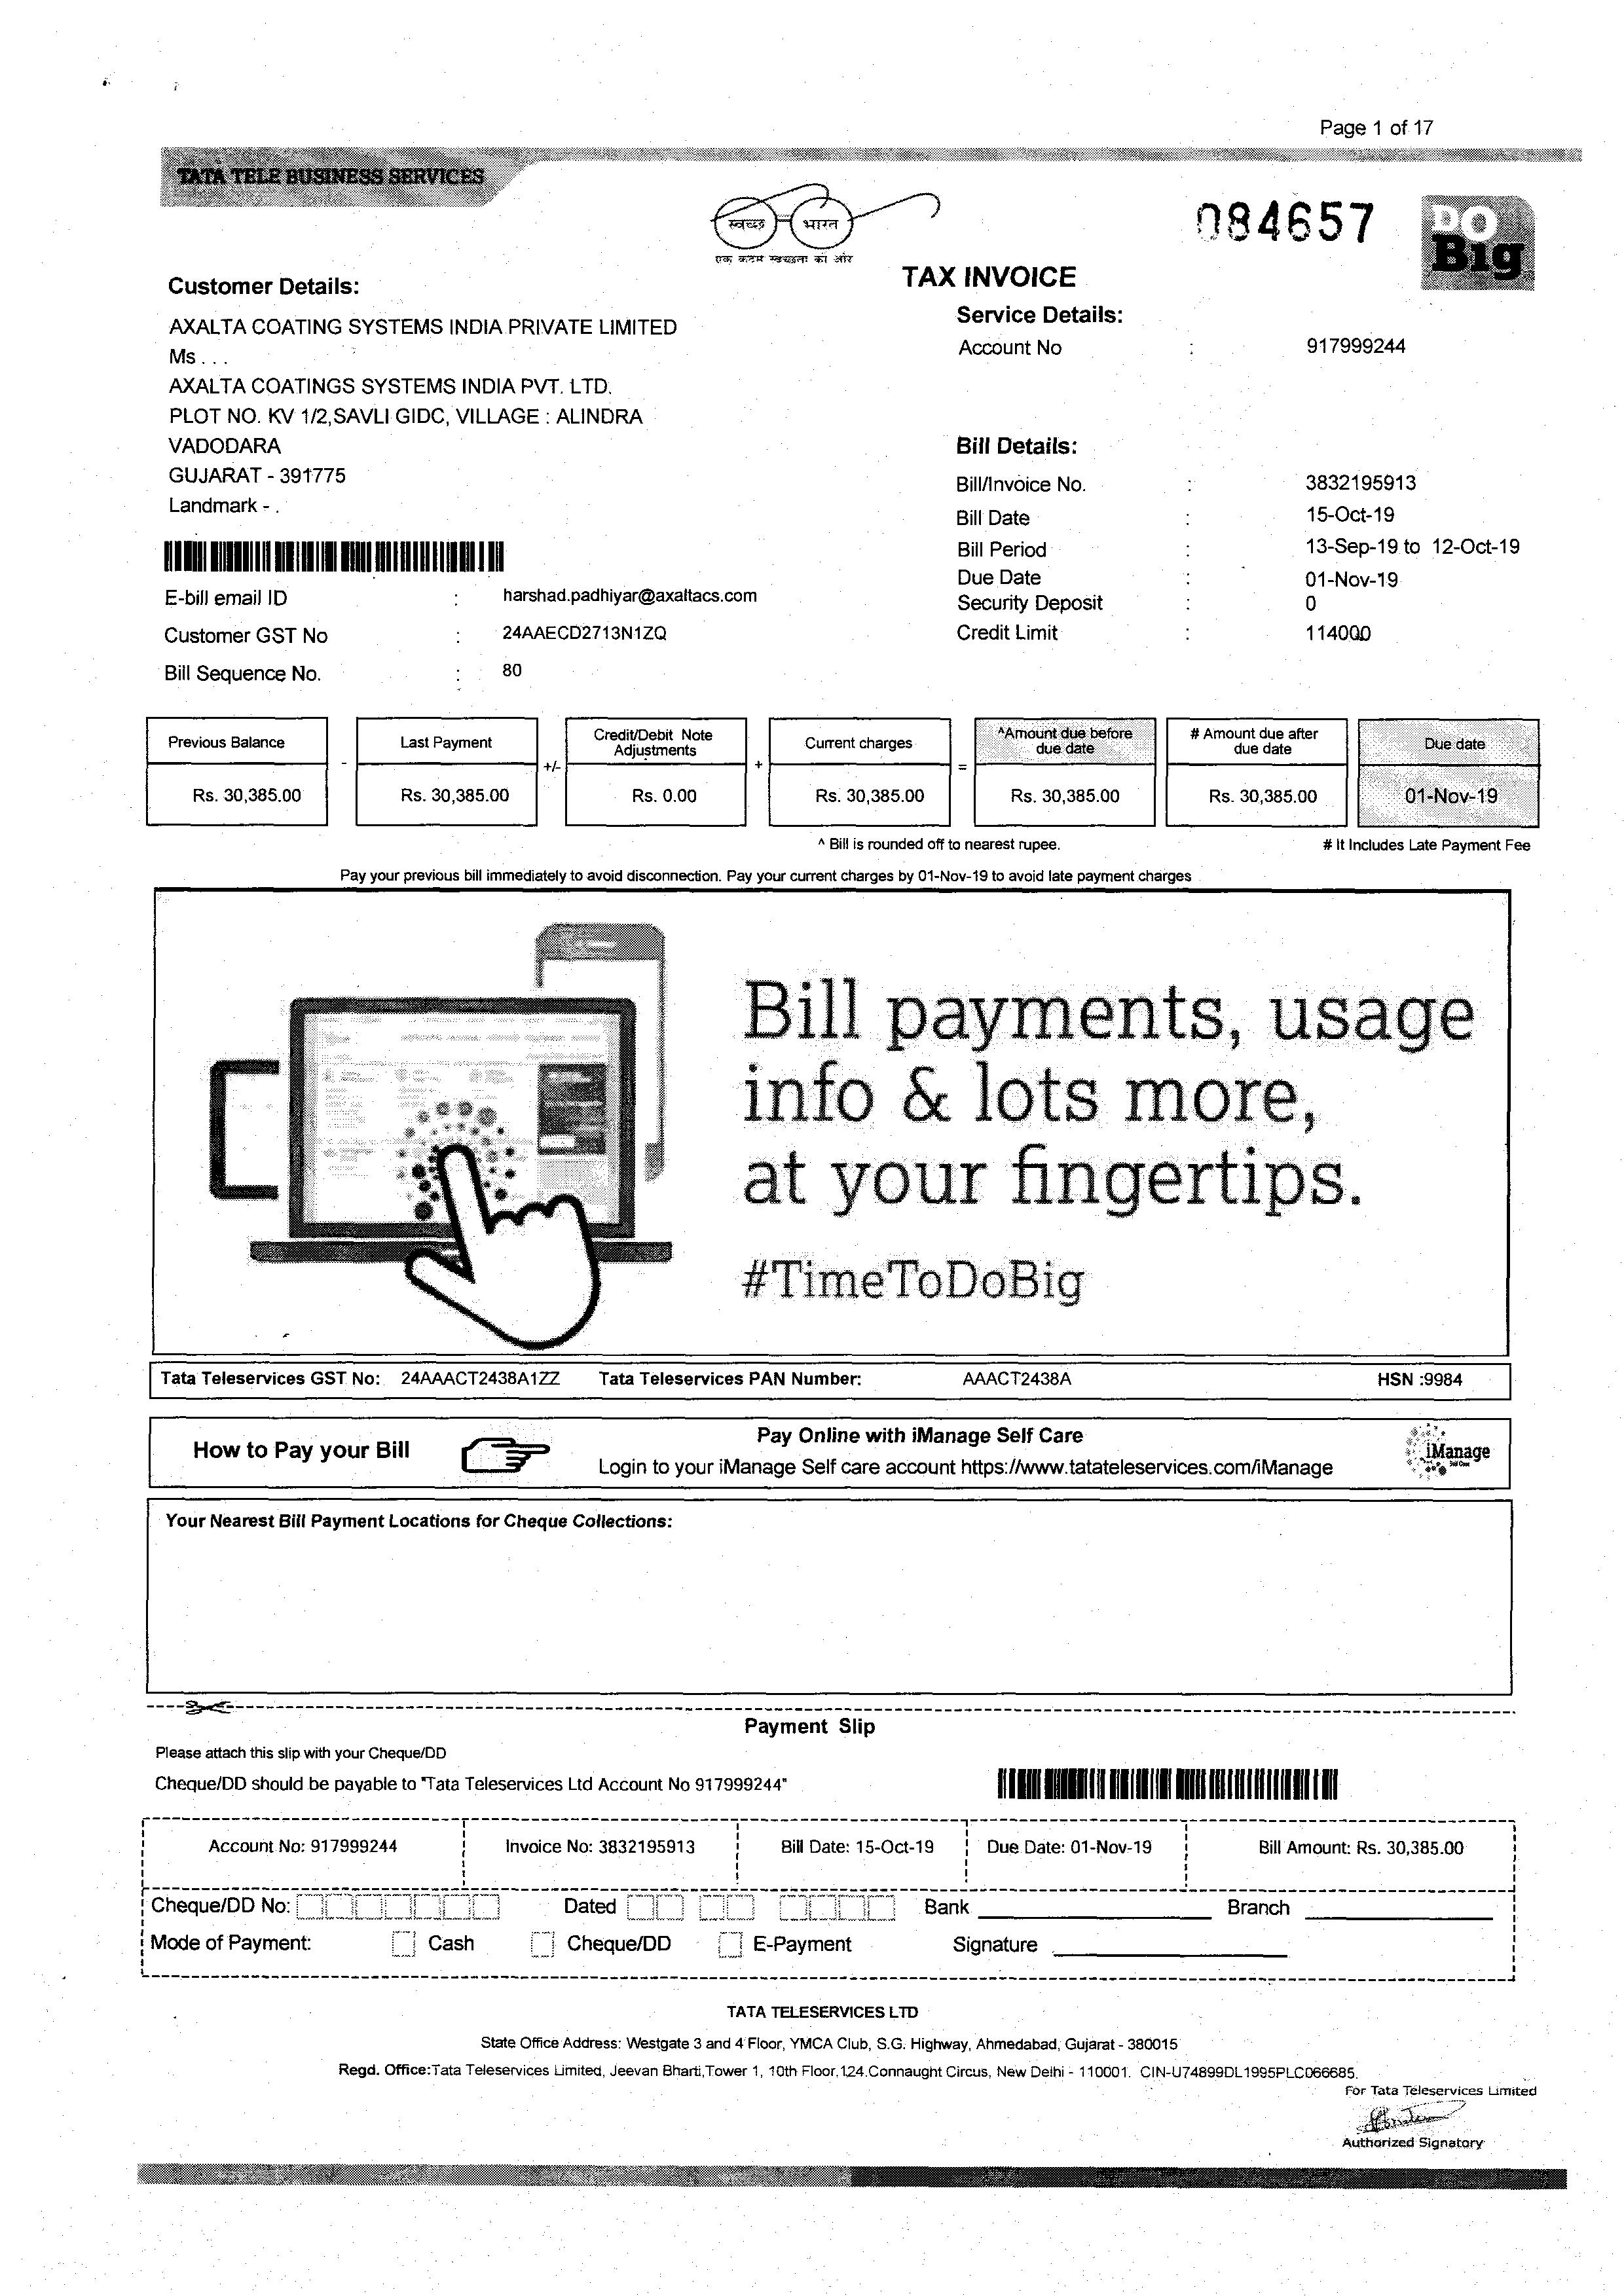B_Paragraph: (733, 956, 1475, 1219), (162, 314, 691, 532), (956, 473, 1529, 661), (334, 2018, 1357, 2092), (160, 581, 768, 689), (151, 1360, 1469, 1397), (151, 1741, 793, 1806), (334, 863, 1202, 901), (589, 1451, 1341, 1493), (155, 1493, 678, 1553), (733, 1242, 1100, 1321), (961, 329, 1415, 369), (1197, 181, 1381, 256), (749, 1421, 1098, 1449), (193, 1432, 413, 1474), (1311, 829, 1540, 863), (807, 836, 1065, 857), (1367, 2071, 1540, 2103)
B_SubTitle: (167, 267, 367, 306), (951, 415, 1086, 462), (729, 1708, 882, 1743), (728, 1997, 926, 2022)
B_Table: (144, 1818, 1519, 1978), (155, 718, 1540, 824)
B_Title: (162, 153, 496, 202), (902, 255, 1077, 293)
